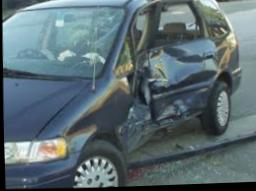Door: (114, 0, 219, 149)
Fender: (210, 36, 242, 87)
Light: (45, 88, 119, 162)
Windshield: (3, 8, 124, 78)
